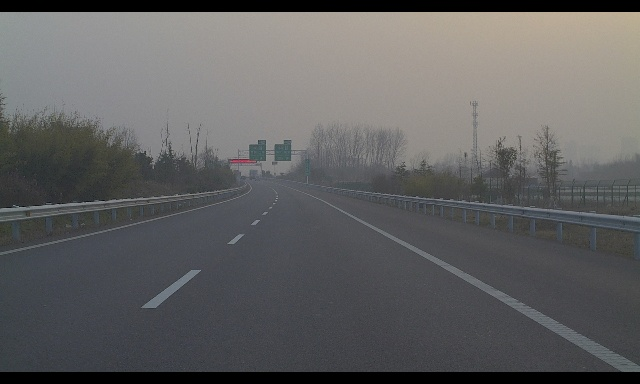car: (254, 175, 260, 181)
truck: (248, 169, 258, 180), (231, 170, 241, 179)
